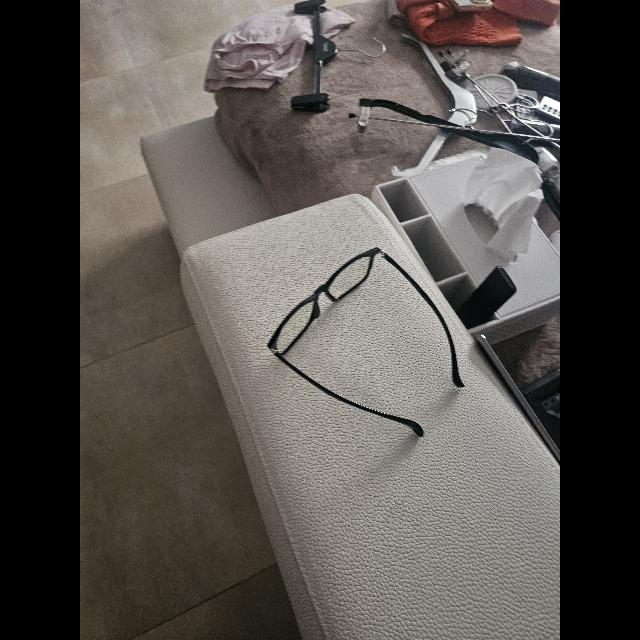glasses: (268, 248, 464, 437)
